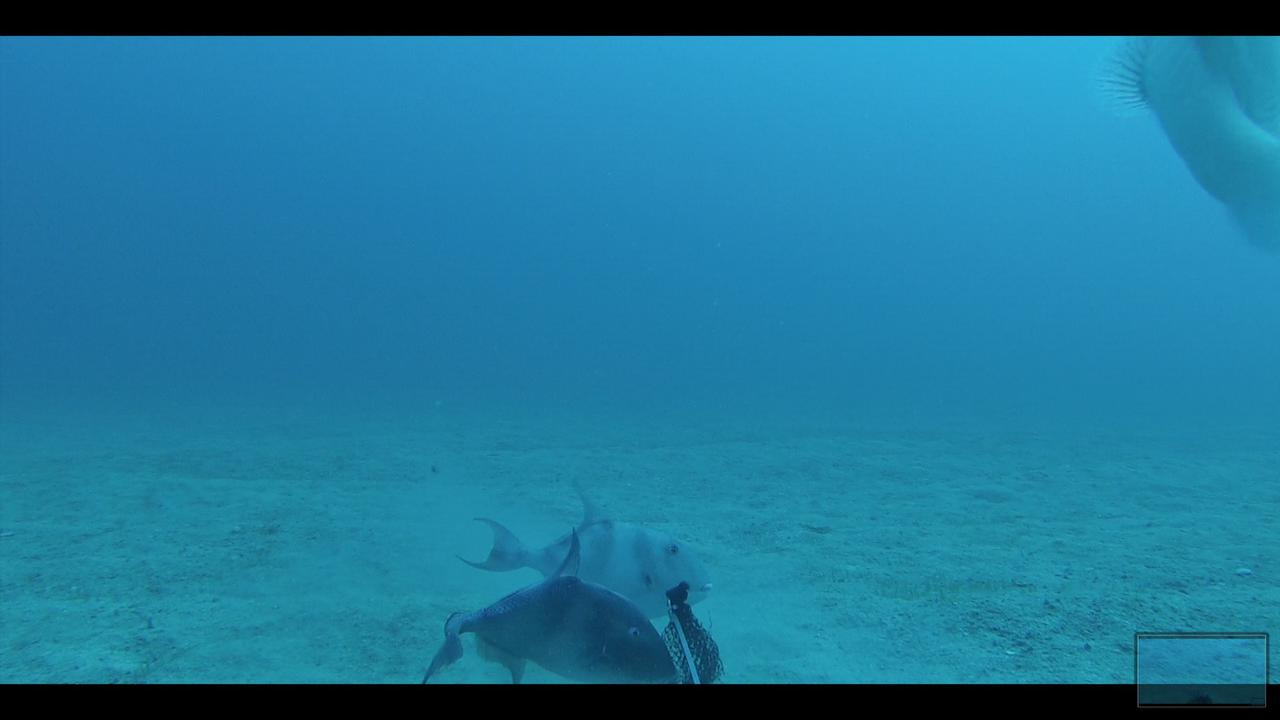balistes: (422, 524, 679, 682), (454, 469, 714, 617)
